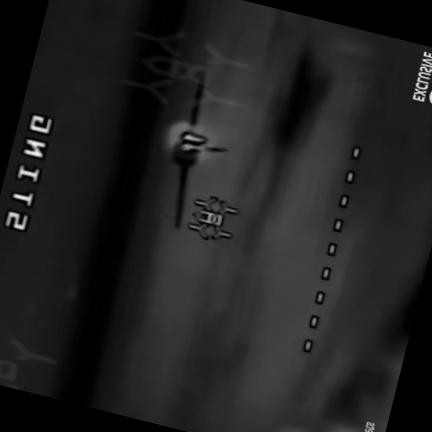Shahed: (172, 71, 227, 227)
